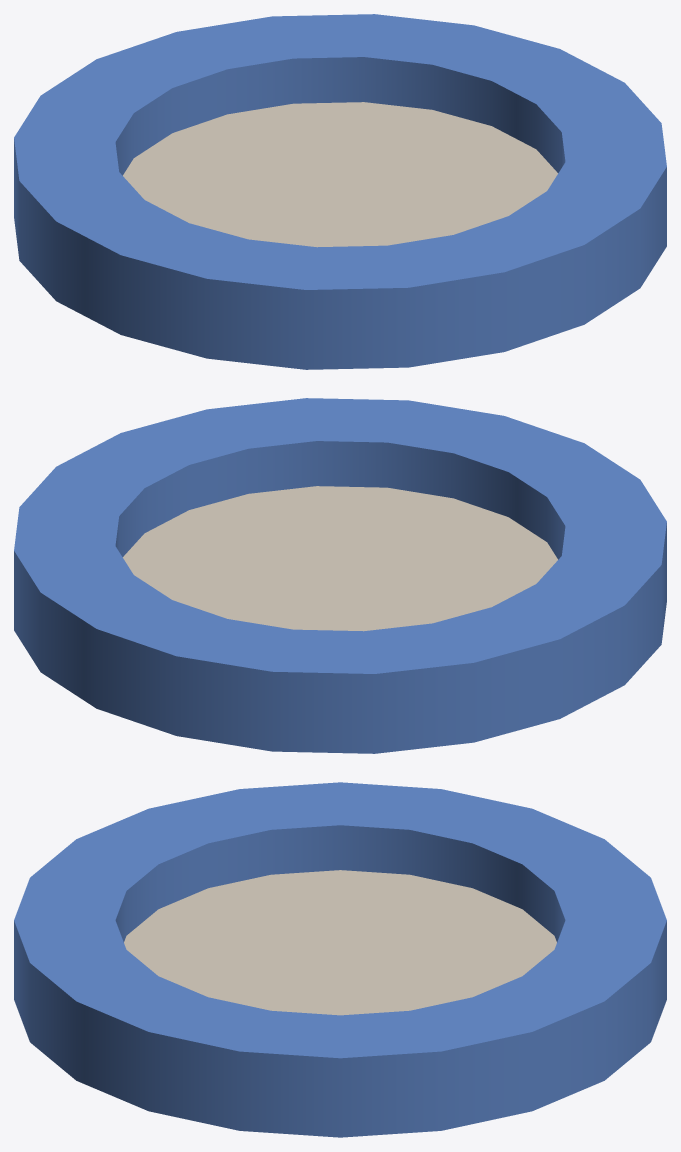
Rendered from SM_Miror.fbx.
The picture shows the model from 3 angles, top to bottom: view 1: azimuth 30°, elevation 25°; view 2: azimuth 150°, elevation 25°; view 3: azimuth 270°, elevation 25°; orthographic projection.
Parts seen in each view (by area): view 1: SM_Miror; view 2: SM_Miror; view 3: SM_Miror.
Boxes of the visible parts, left/top/right/bottom form: SM_Miror: left=14, top=14, right=666, bottom=369; SM_Miror: left=14, top=398, right=666, bottom=753; SM_Miror: left=14, top=782, right=666, bottom=1137.
Bounding box in the file's own units: 98.81 × 98.81 × 13.25.
1 material, 1 textured.
